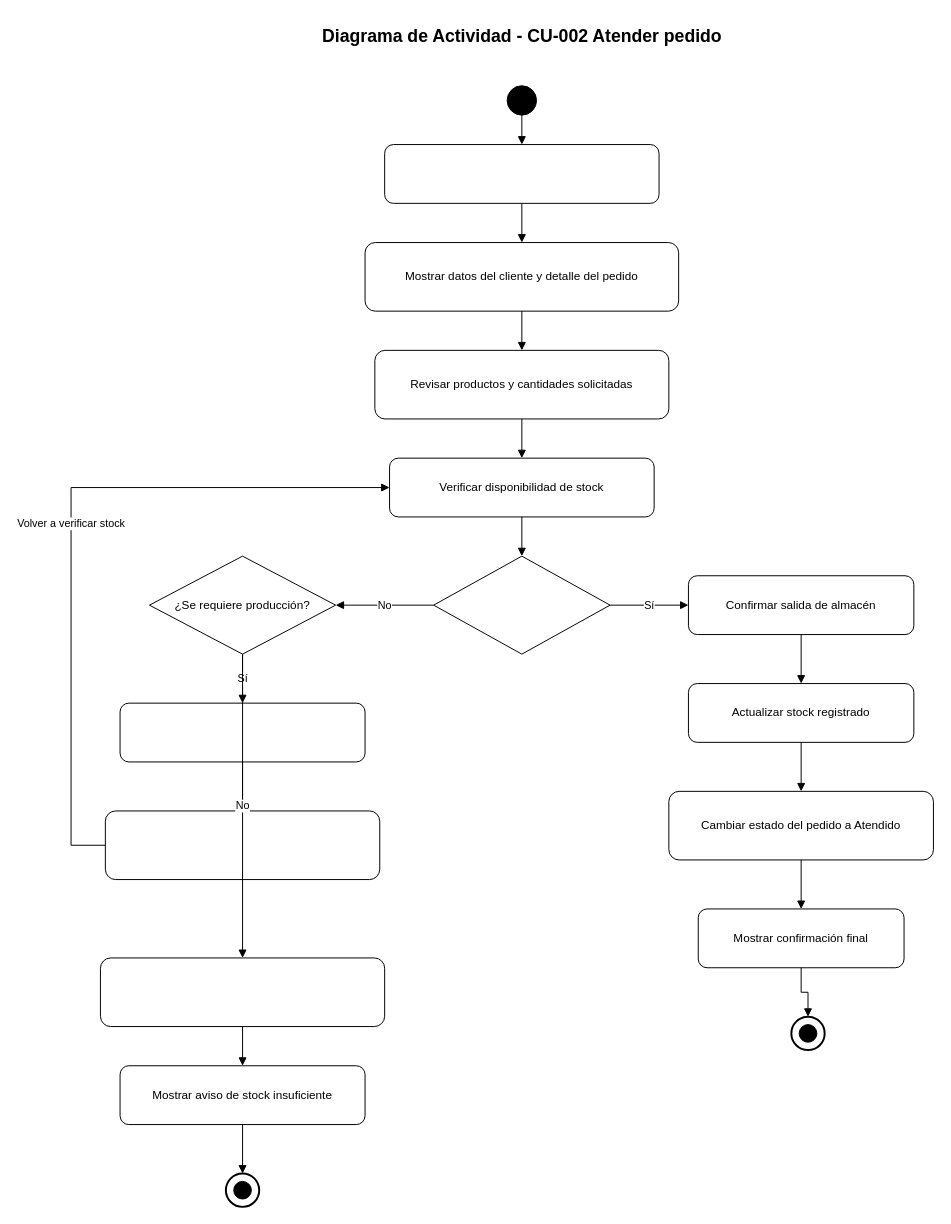
This 951x1224 diagram has some shape labels left out. Each missing label, with the box of its shape:
Coordinar producción: (119, 702, 365, 762)
Esperar disponibilidad de productos: (104, 810, 380, 880)
Mantener pedido en estado Pendiente: (99, 957, 385, 1027)
Seleccionar pedido pendiente: (384, 144, 659, 203)
¿Hay stock suficiente?: (433, 555, 610, 654)
